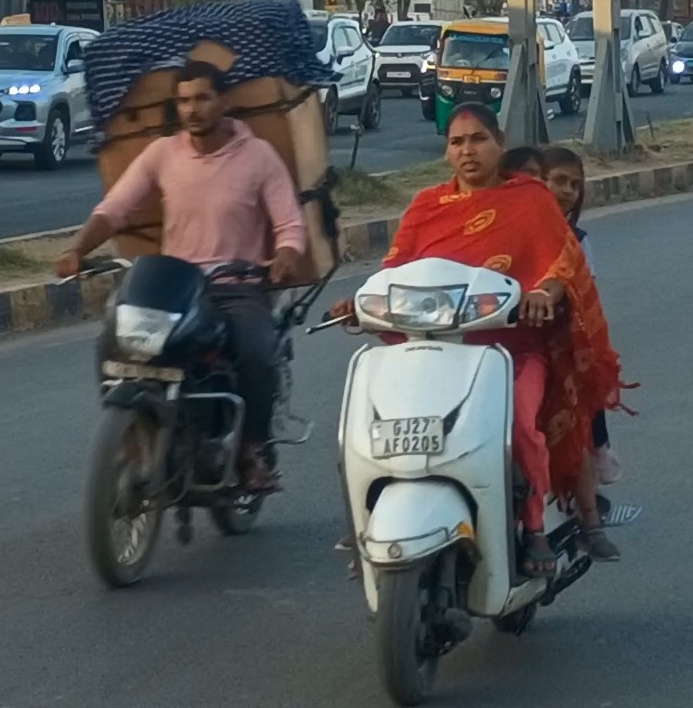BikeWithRider: (306, 98, 644, 705), (51, 55, 326, 594)
NoHelmet: (158, 55, 241, 140), (436, 103, 506, 194), (536, 144, 601, 227), (501, 140, 552, 209)
